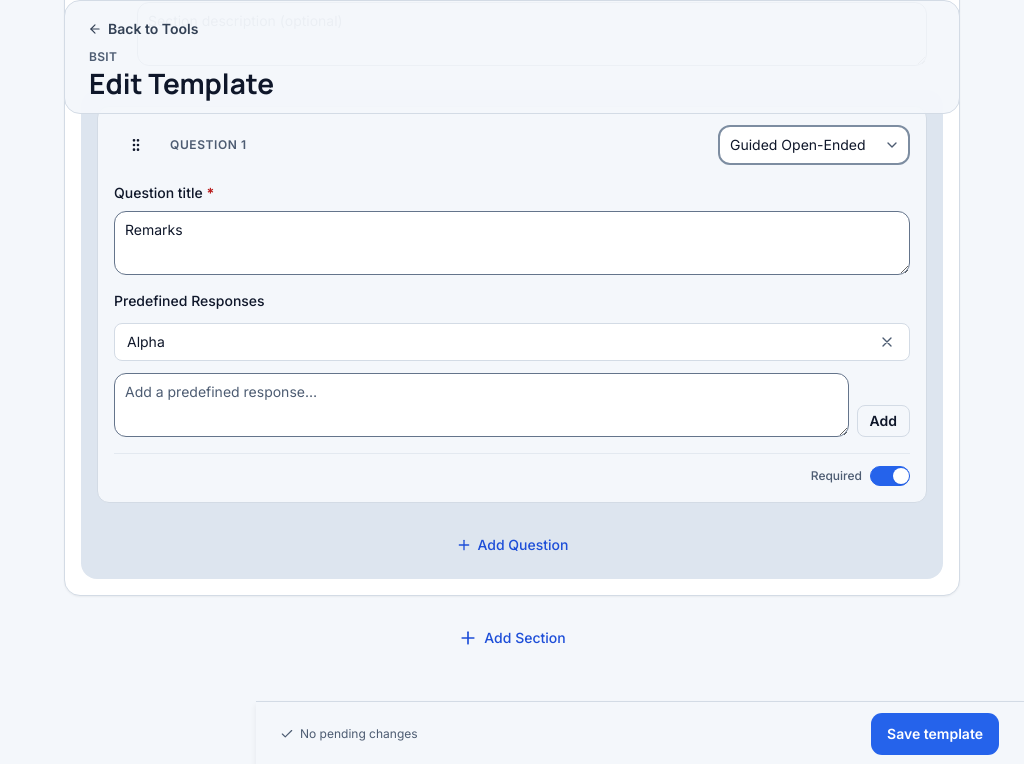
TemplateBuilder › blocks adding duplicate predefined responses within the same question
(page scrolled)
In the text box with placeholder "Add a predefined response…": x=481, y=405 x1=114 y1=373 x2=848 y2=437, type " Alpha "
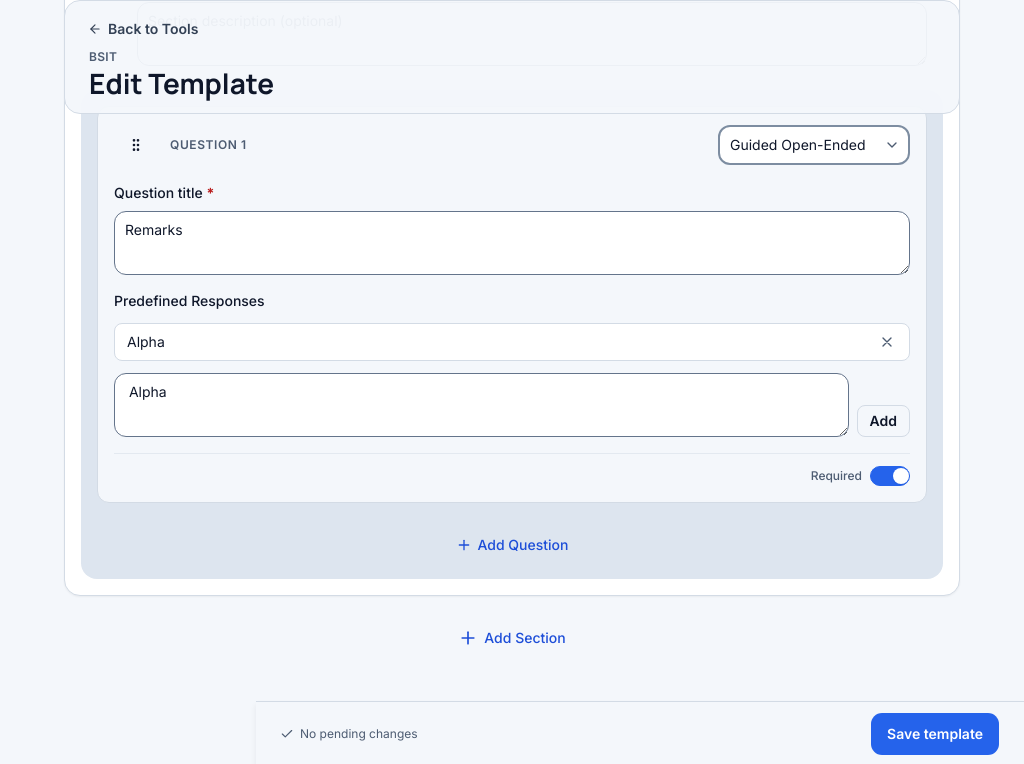
Click the button "Add": x=883, y=421 x1=856 y1=405 x2=910 y2=437
(page scrolled)
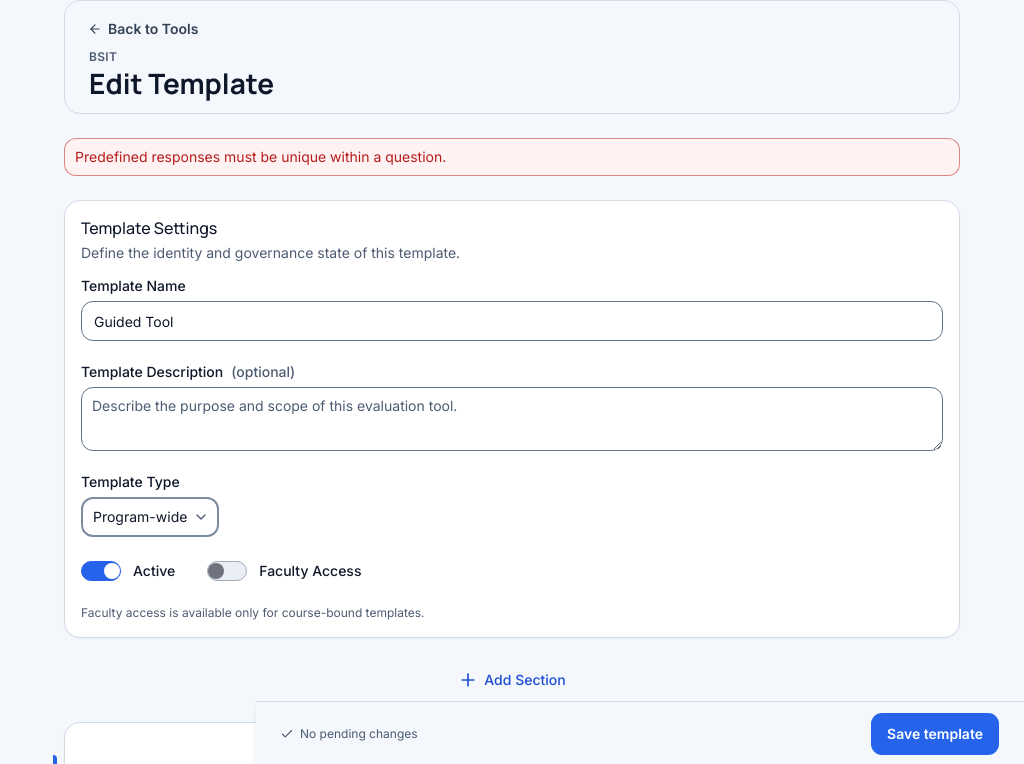
expect the text "Predefined responses must be unique within a question." is shown: met, box x1=75 y1=148 x2=446 y2=165
